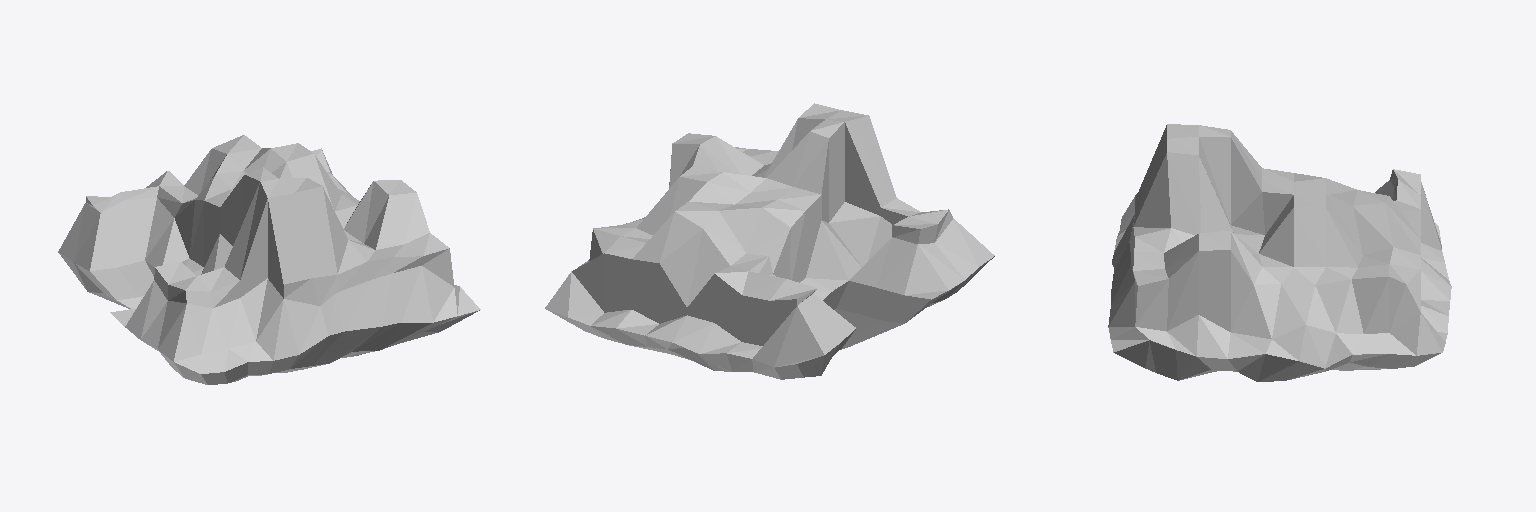
File: Sharp_IB.obj
The picture shows the model from 3 angles: view 1: azimuth 30°, elevation 25°; view 2: azimuth 150°, elevation 25°; view 3: azimuth 270°, elevation 25°; orthographic projection.
Parts seen in each view (by area): view 1: SquareIceBerg_Plane.002; view 2: SquareIceBerg_Plane.002; view 3: SquareIceBerg_Plane.002.
Part boxes in pixels (x1,y1,x2,y2): SquareIceBerg_Plane.002: (58,135,480,384); SquareIceBerg_Plane.002: (545,103,994,379); SquareIceBerg_Plane.002: (1108,124,1451,381).
Size of the model in its own units: 16.68 by 11.54 by 15.85.